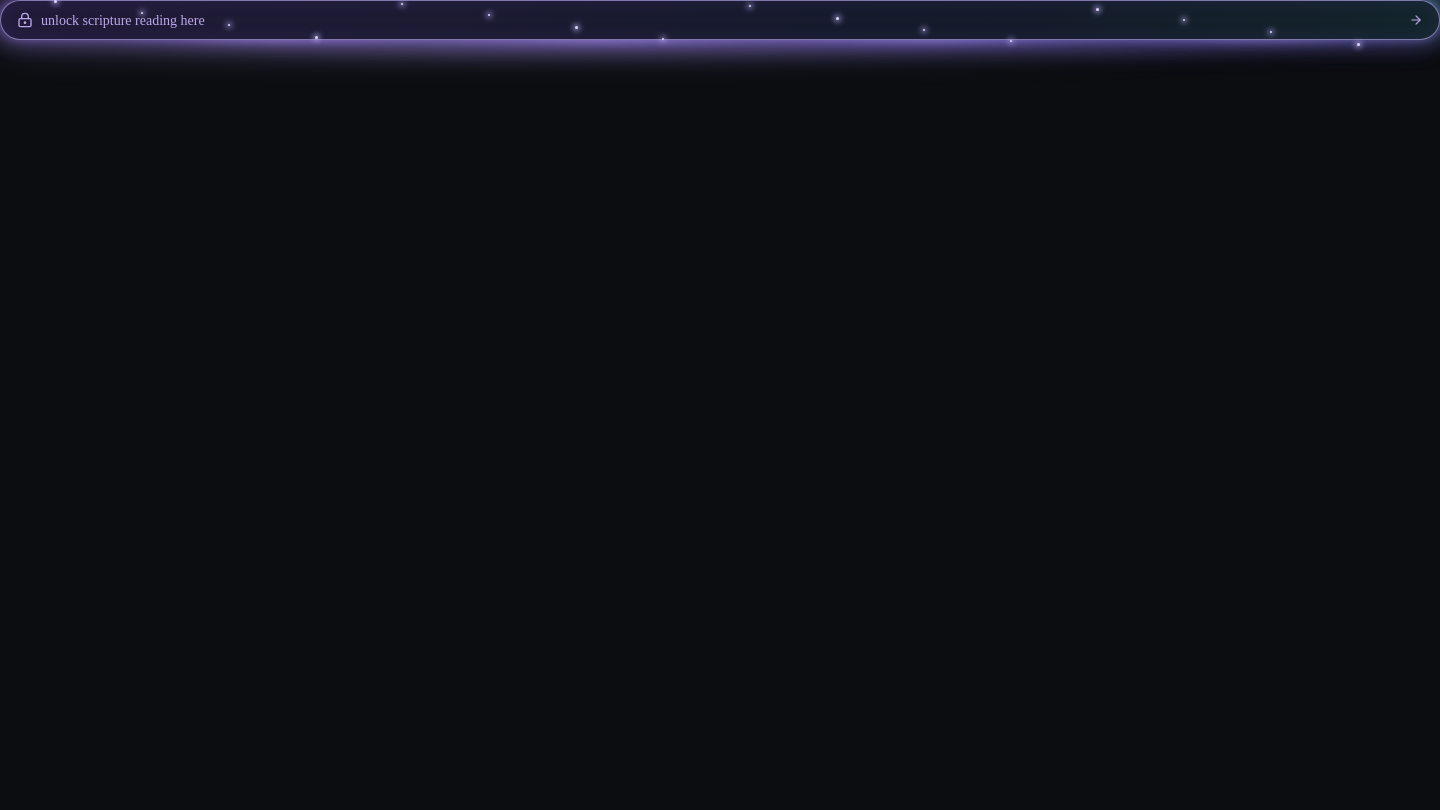
Test: scripture search setup › retains the locked state on failure and rejects malformed input before IPC
Click the button "unlock scripture reading here": (123, 20) [0, 0, 1439, 40]
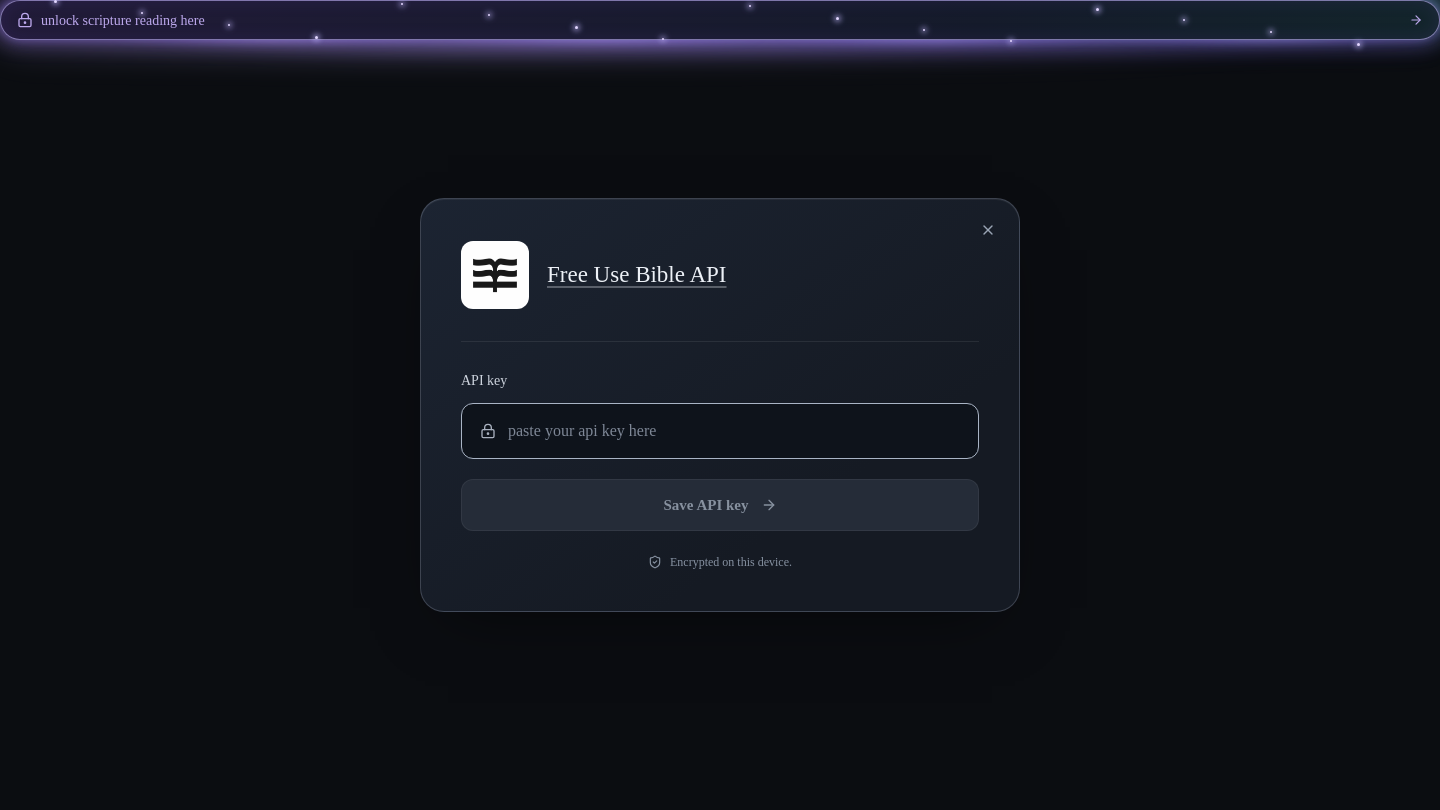
Expected: the dialog "Free Use Bible API" is shown, [420, 198, 1020, 612]
Expected: the password field named "API.Bible API key" is enabled
In the password field named "API.Bible API key": (734, 431) [508, 404, 960, 458], type "bad key"
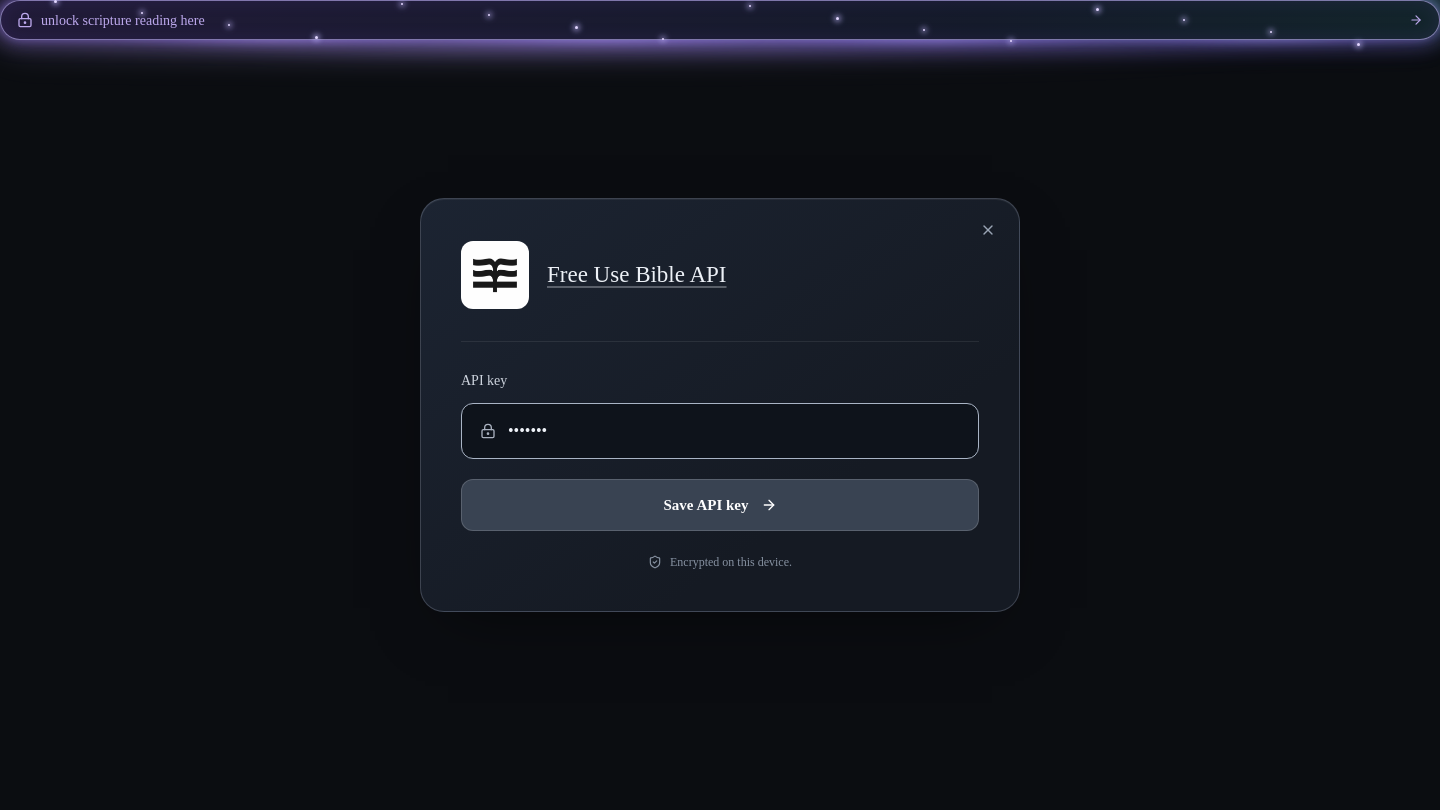
Submit the form named "Scripture search setup", box [461, 341, 979, 531]
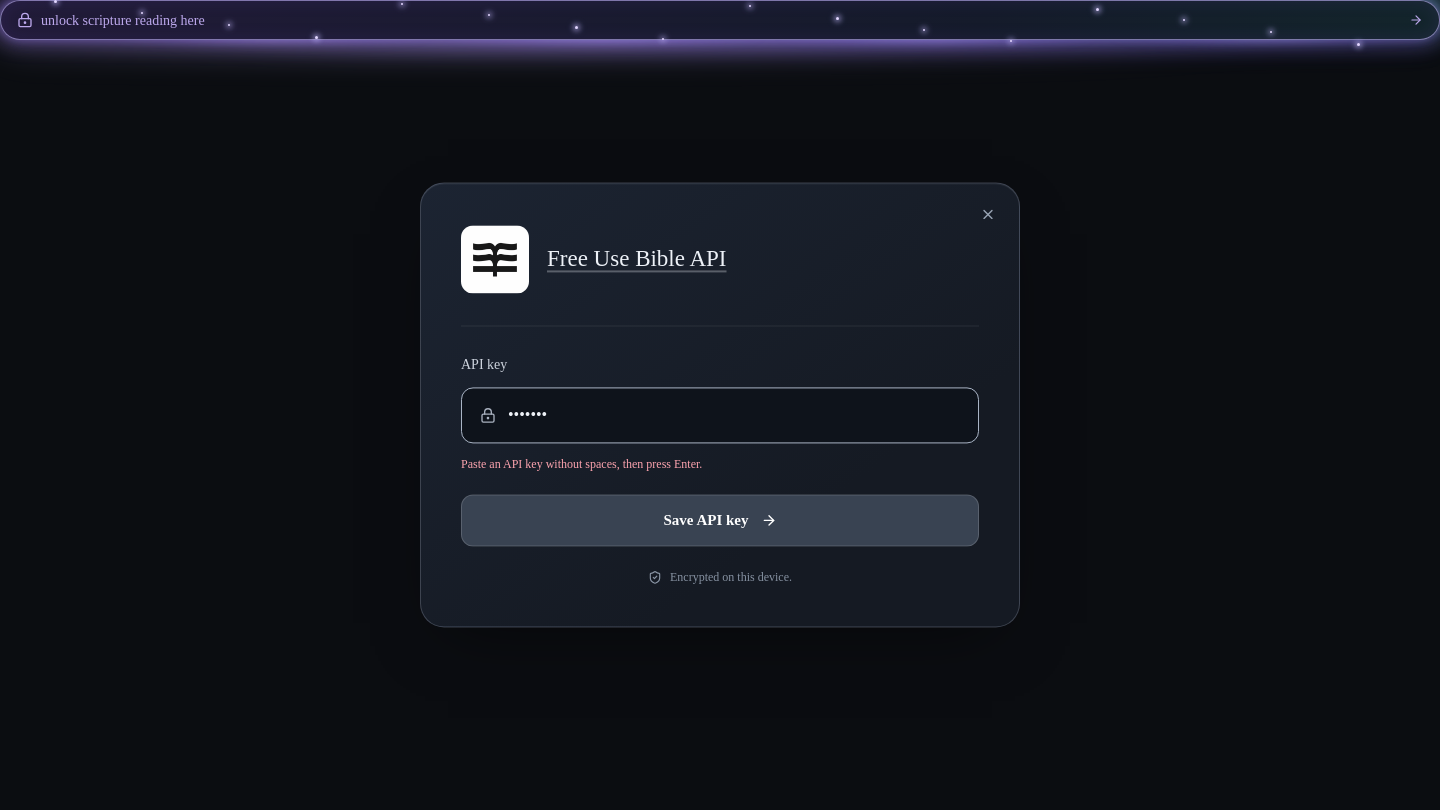
Expected: the message shows "without spaces", [461, 457, 702, 471]
In the password field named "API.Bible API key": (734, 415) [508, 388, 960, 442], type "synthetic-test-key"
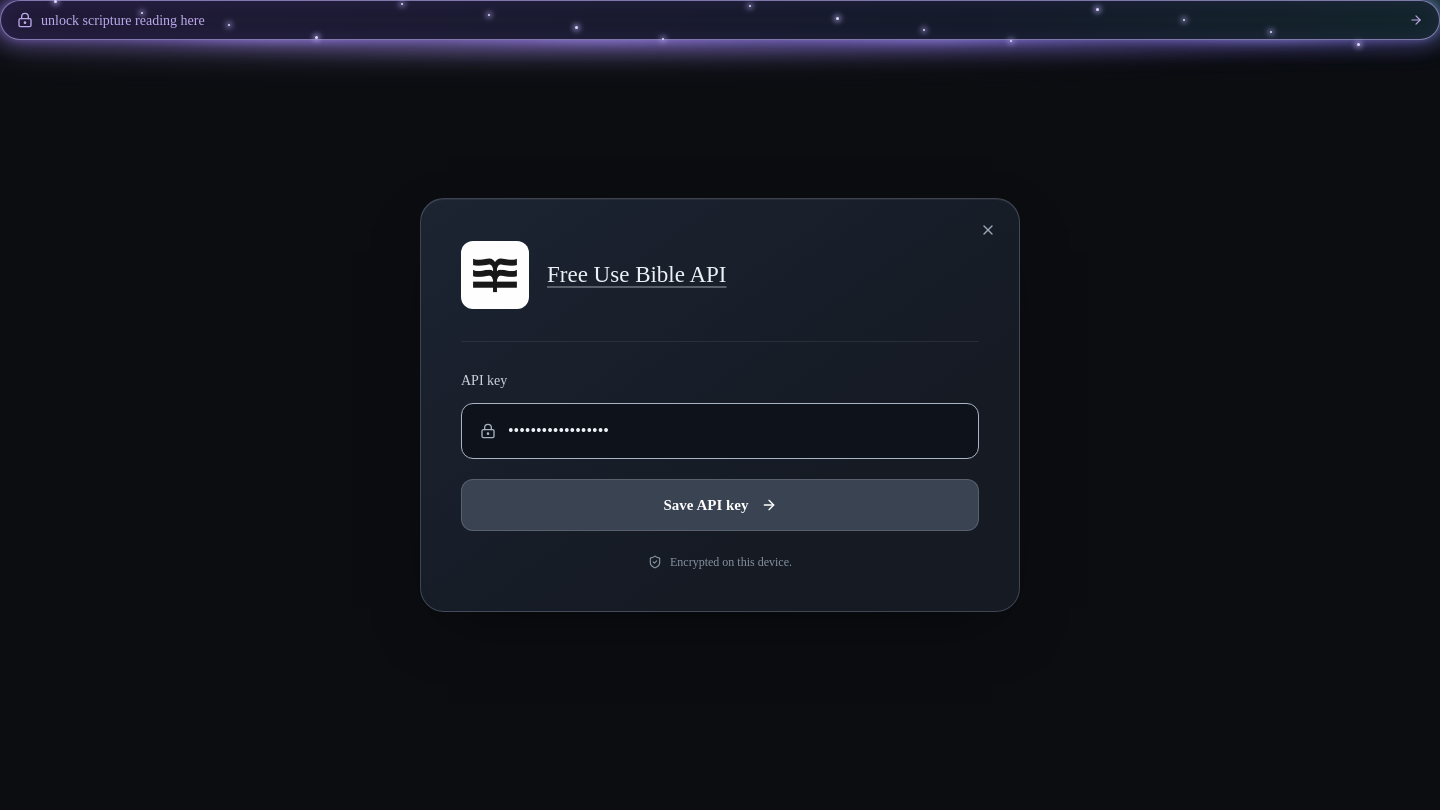
Submit the form named "Scripture search setup", box [461, 341, 979, 531]
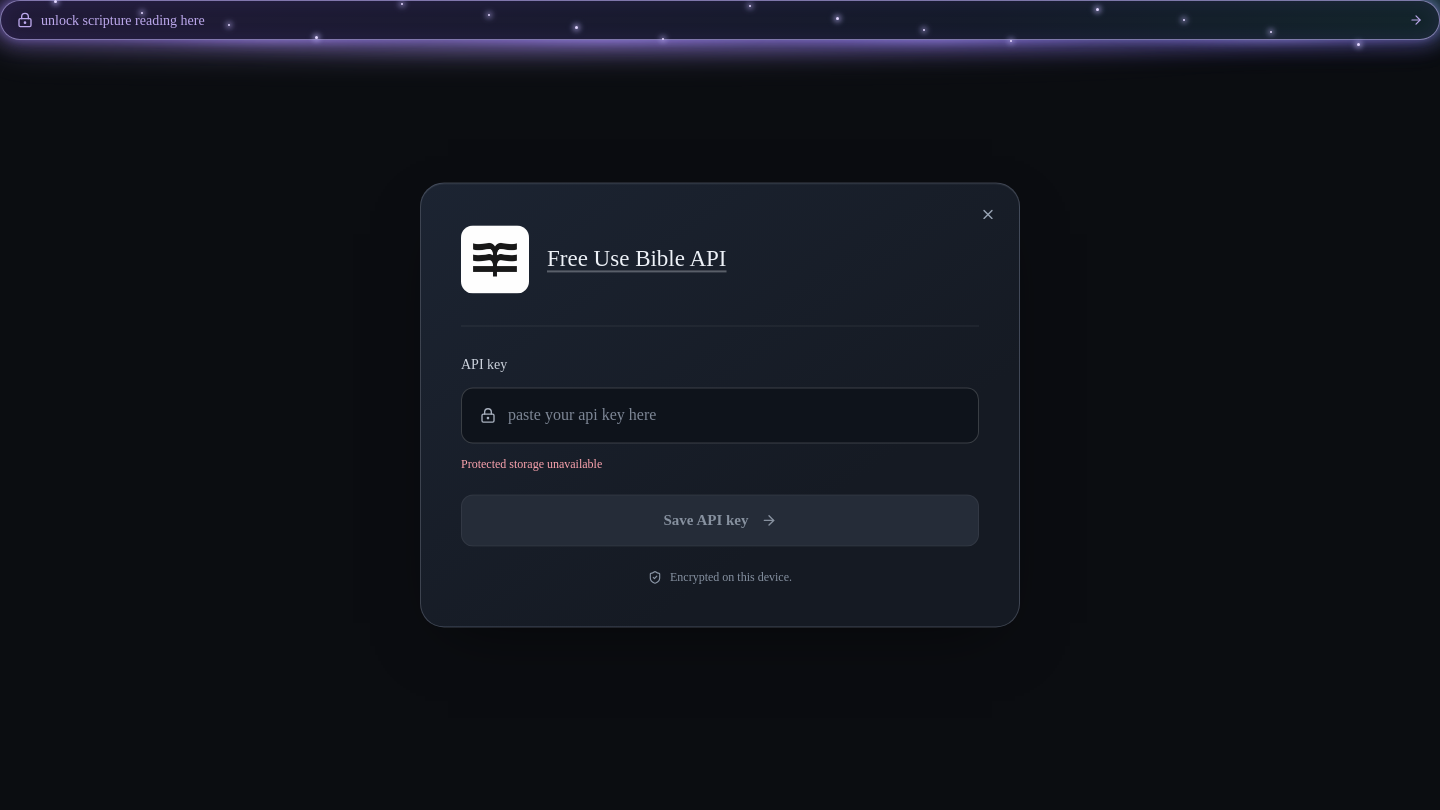
Expected: the message reads "Protected storage unavailable", [461, 457, 602, 471]
Expected: the password field named "API.Bible API key" is empty, [508, 388, 960, 442]
